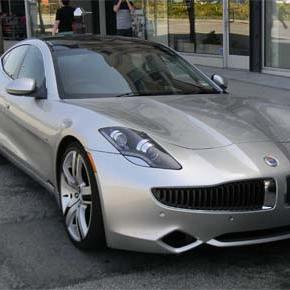Car: (2, 31, 290, 269)
